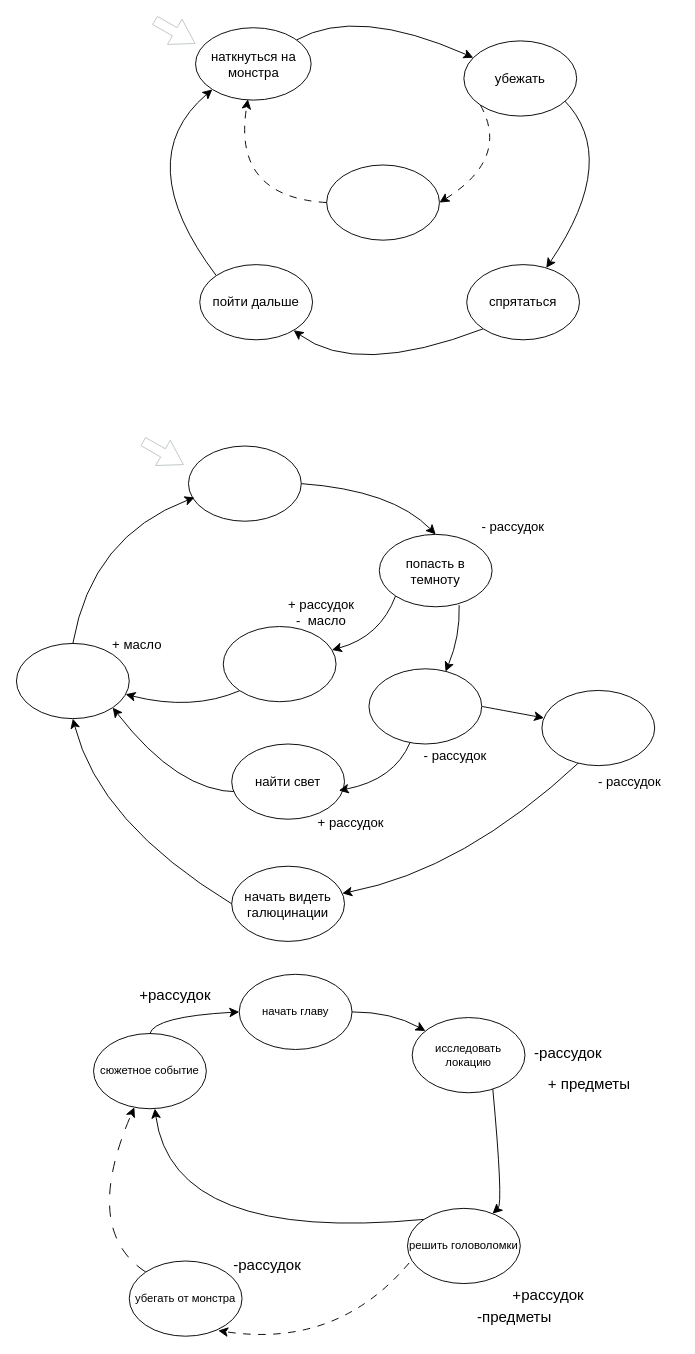
Some shapes in this 695 by 1354 pixel diagram are drawn without their labels. The centre of each missing label's shape, as x and y in pixels:
"войти в новую локацию" belongs at [244,483].
"зажечь лампу" belongs at [279,664].
"найти предметы" belongs at [72,680].
"остаться в темноте" belongs at [598,727].
"поиск света" belongs at [425,706].
"умереть" belongs at [382,202].
